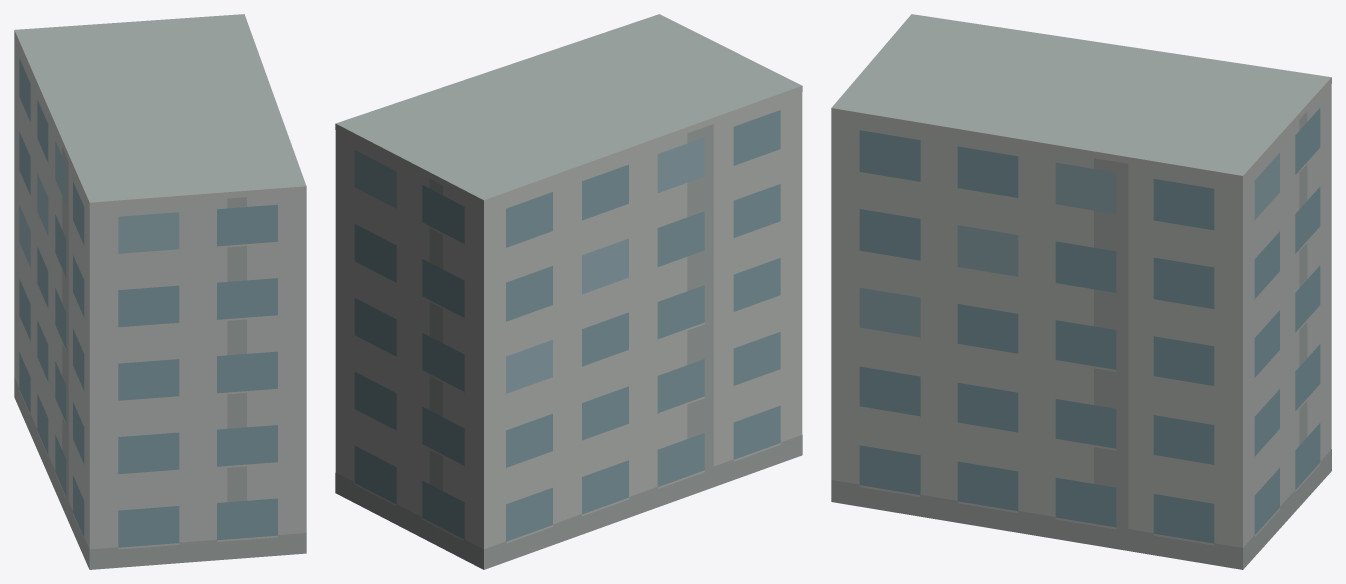
File: survey-upis-32888438.glb
The picture shows the model from 3 angles, left to right: view 1: azimuth 30°, elevation 25°; view 2: azimuth 150°, elevation 25°; view 3: azimuth 270°, elevation 25°; orthographic projection. The views are drawn at different scales.
Visible parts, largest first — view 1: survey-upis-32888438.tmp; view 2: survey-upis-32888438.tmp; view 3: survey-upis-32888438.tmp.
Part boxes in pixels (<box>): survey-upis-32888438.tmp: <box>14,14,306,569</box>; survey-upis-32888438.tmp: <box>335,14,802,569</box>; survey-upis-32888438.tmp: <box>831,14,1331,569</box>.
Size of the model in its own units: 12.53 by 14.2 by 16.36.
